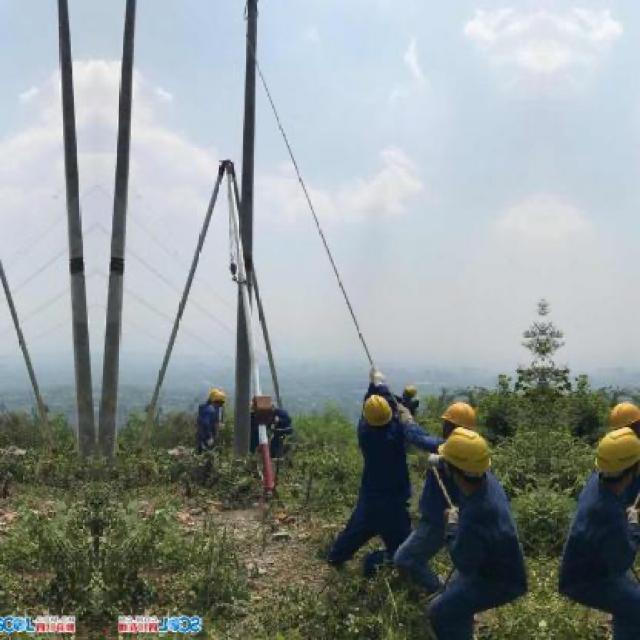helmet: (445, 432, 492, 484), (595, 432, 640, 486), (442, 395, 483, 436), (360, 395, 398, 436), (605, 393, 640, 436), (398, 381, 422, 406), (208, 388, 232, 412)
